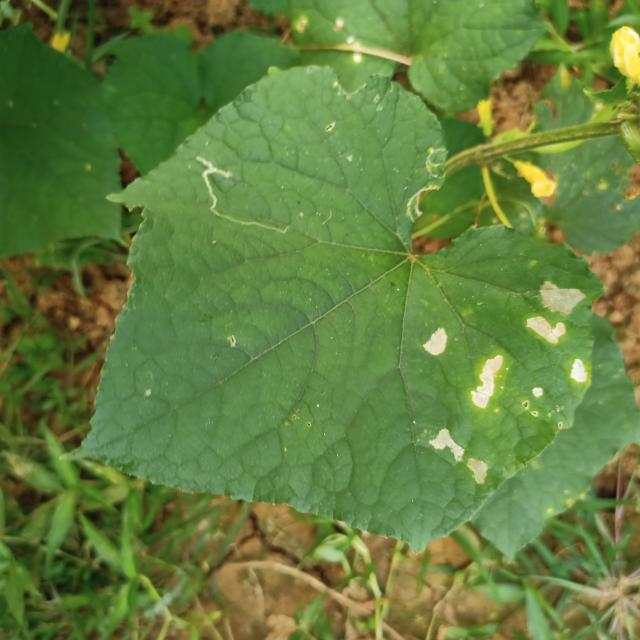disease_cucumber: (523, 279, 596, 387), (469, 349, 550, 421), (425, 426, 494, 490), (420, 318, 450, 366)
